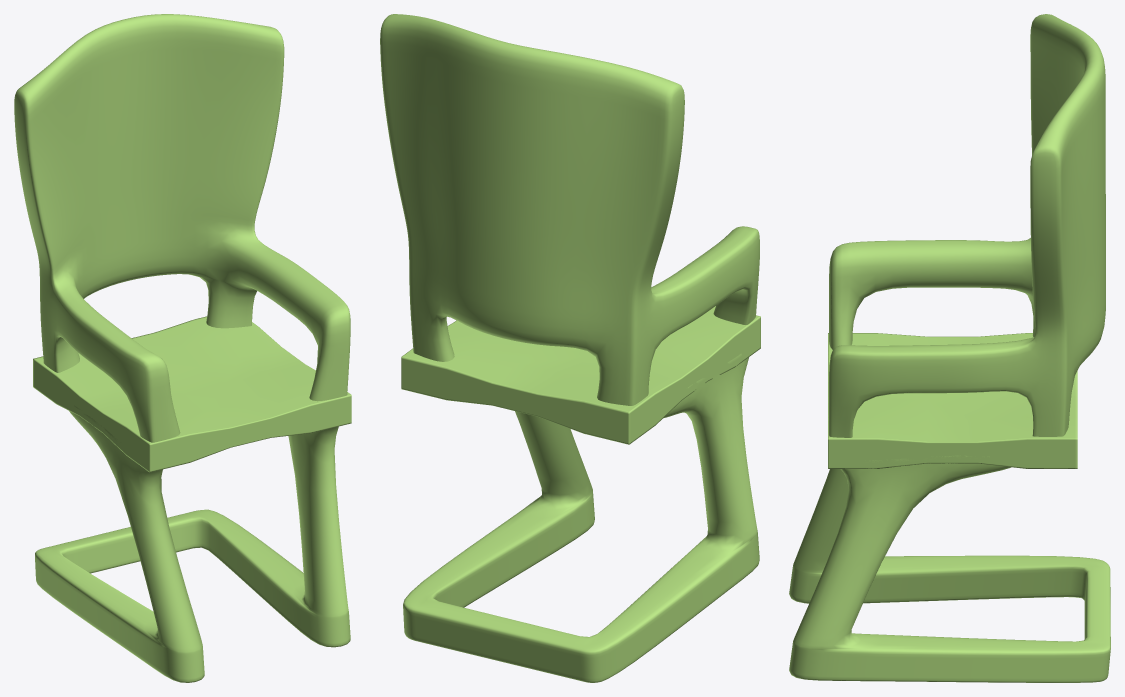
3 views of the same model, side by side, from view 1: azimuth 30°, elevation 25°; view 2: azimuth 150°, elevation 25°; view 3: azimuth 270°, elevation 25° (orthographic). The views are drawn at different scales.
Parts seen in each view (by area): view 1: Object_2; view 2: Object_2; view 3: Object_2.
Boxes of the visible parts, left/top/right/bottom form: Object_2: left=14, top=14, right=351, bottom=682; Object_2: left=380, top=14, right=760, bottom=682; Object_2: left=789, top=14, right=1110, bottom=682.
Size of the model in its own units: 1.19 by 2.37 by 1.19.
